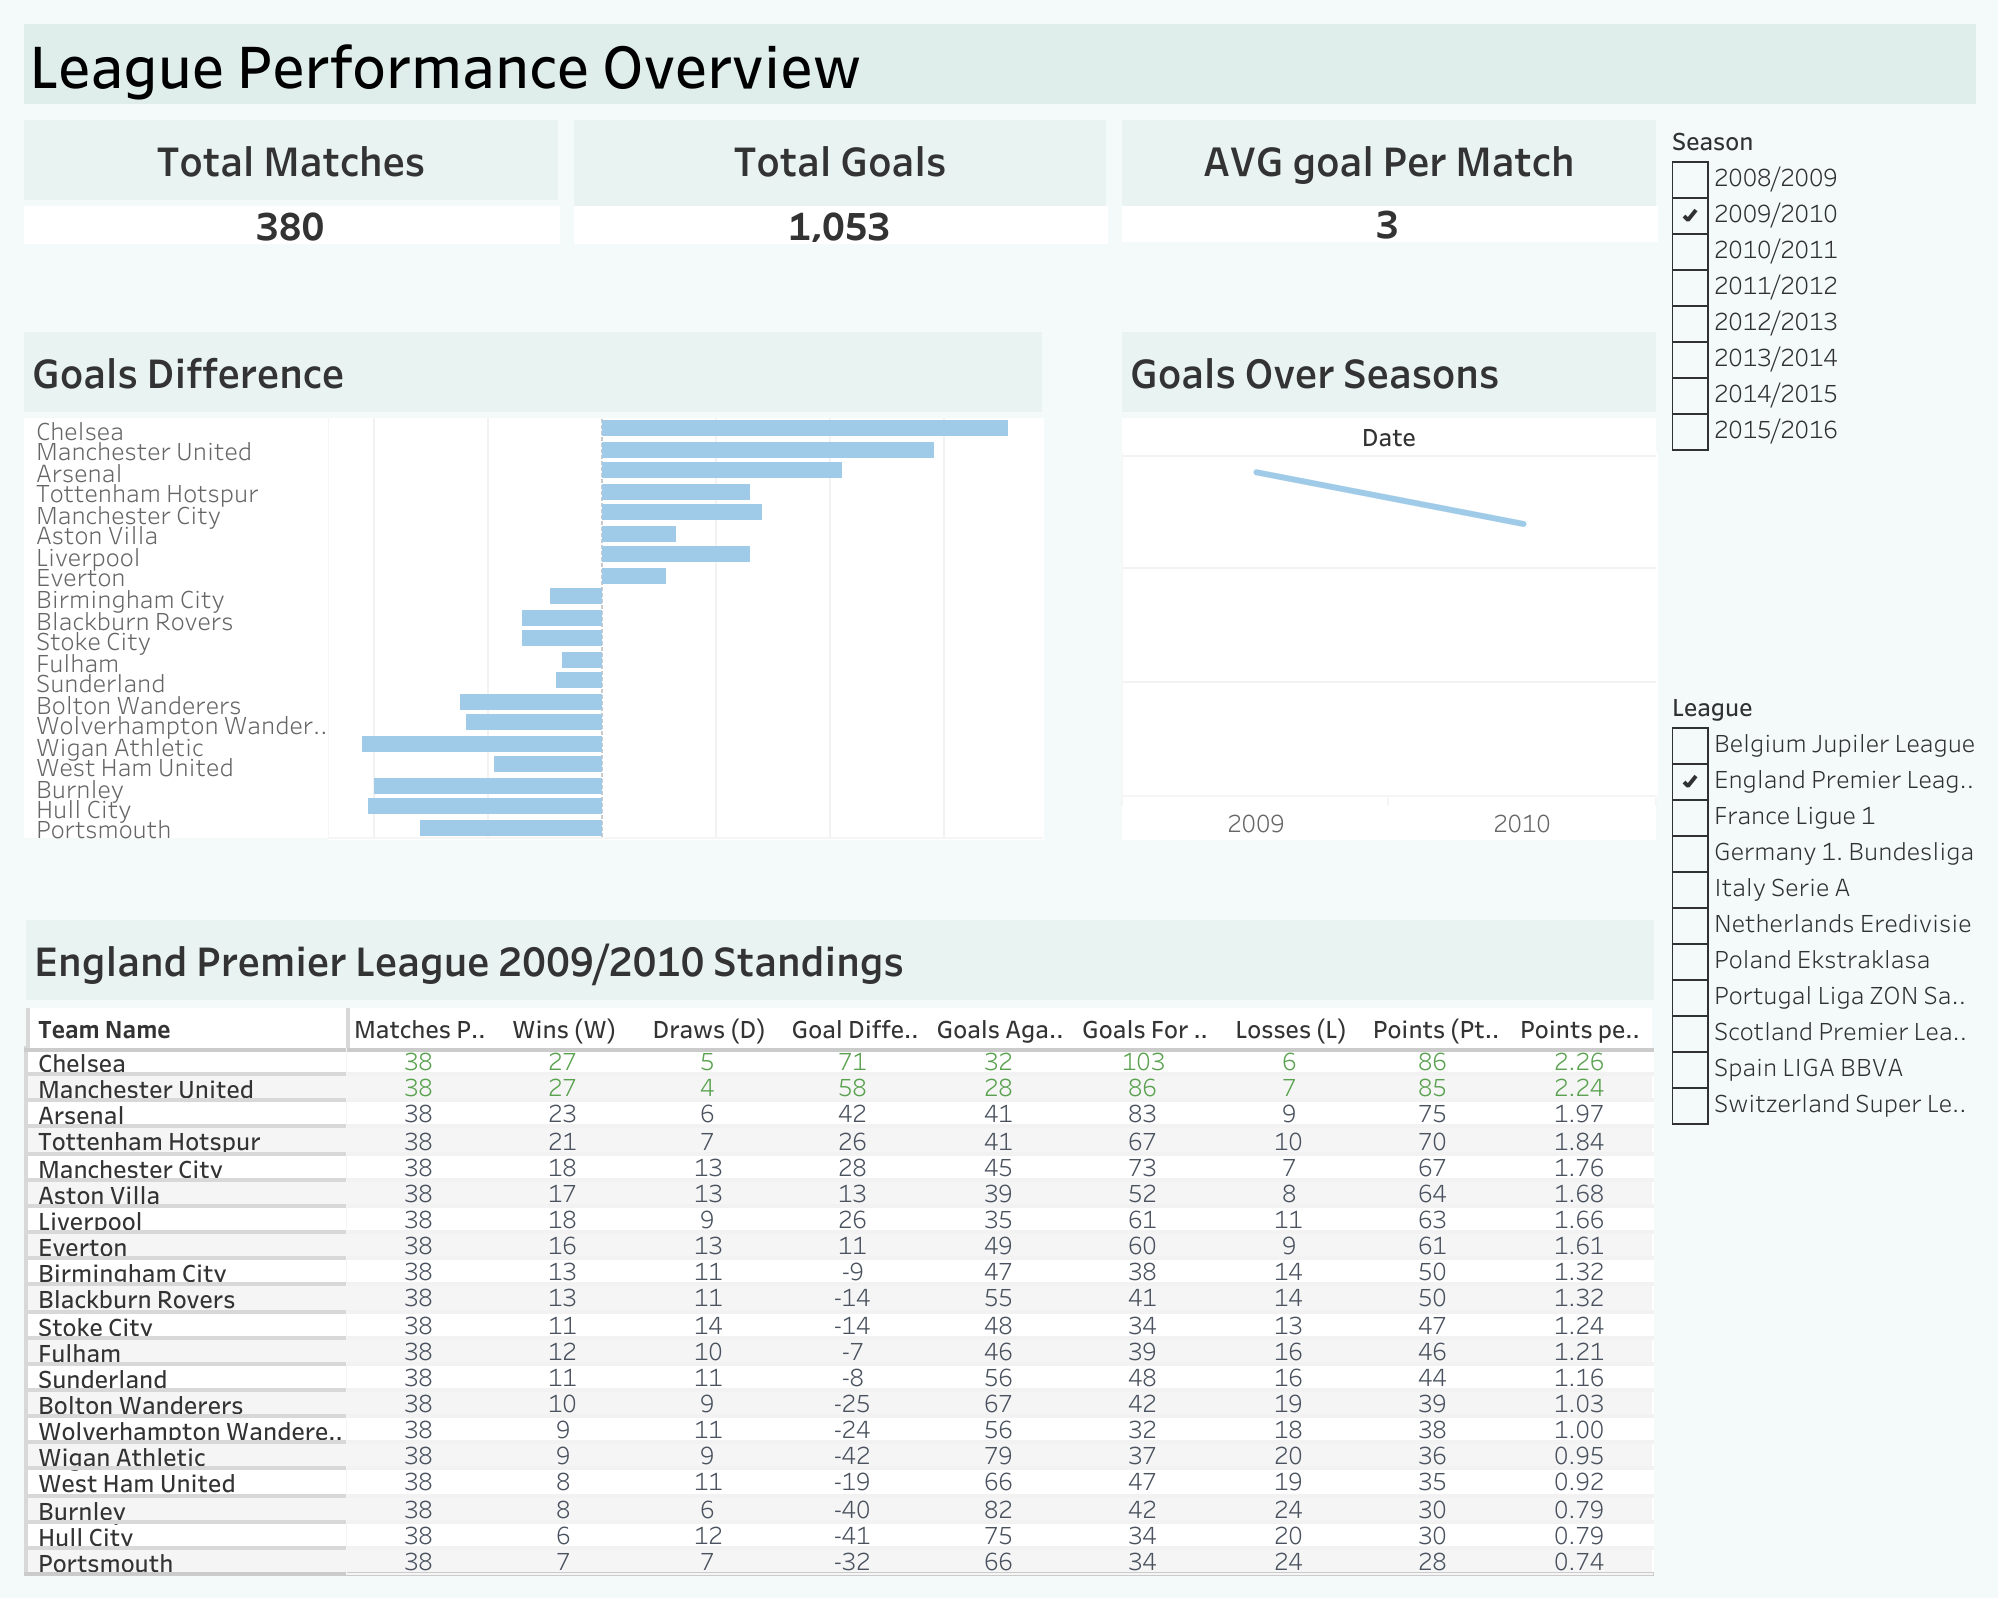

Layout of this report page (visuals, bound fields, positions):
{"tool":"tableau","page":{"name":"League Performance","canvas":[1000,800],"ordinal":0},"visuals":[{"type":"title","box":[8,8,984,48]},{"type":"worksheet","title":"Matchs","mark":"Automatic","box":[8,56,274.7,68.5]},{"type":"worksheet","title":"Total Goals","mark":"Automatic","box":[282.7,56,274.7,68.5]},{"type":"worksheet","title":"AVG goal Per Match","mark":"Automatic","box":[557.3,56,274.7,68.4]},{"type":"filter","title":"Standings","param":"[federated.0efvdq61338zgz1e06wcw0oaaglm].[none:season:nk]","box":[832,56,160,283]},{"type":"blank","box":[557.3,124.4,274.7,37.6]},{"type":"blank","box":[8,124.5,549.3,37.6]},{"type":"worksheet","title":"GD Bars","mark":"Bar","rows":["TeamName"],"cols":["Calculation_4468767146312998916"],"box":[8,162.1,517,261.9]},{"type":"blank","box":[525,162.1,32.3,261.9]},{"type":"worksheet","title":"Goals Over Seasons","mark":"Automatic","rows":["GoalsFor"],"cols":["date"],"box":[557.3,162.1,274.7,261.9]},{"type":"filter","title":"Standings","param":"[federated.0efvdq61338zgz1e06wcw0oaaglm].[none:League:nk]","box":[832,339,160,341]},{"type":"blank","box":[8,424,824,31.7]},{"type":"worksheet","title":"Standings","mark":"Automatic","rows":["TeamName"],"box":[8,455.7,824,336.3]}]}

Visuals, with their boxes in screenshot pixels (x1, y1, x2, y2), scaled from the page's 1000x800 canvas onto the 1998x1598 screenshot:
title: (16, 16, 1982, 112)
"Matchs" worksheet: (16, 112, 565, 249)
"Total Goals" worksheet: (565, 112, 1114, 249)
"AVG goal Per Match" worksheet: (1113, 112, 1662, 248)
"Standings" filter: (1662, 112, 1982, 677)
blank: (1113, 248, 1662, 324)
blank: (16, 249, 1113, 324)
"GD Bars" worksheet (Bar marks): (16, 324, 1049, 847)
blank: (1049, 324, 1113, 847)
"Goals Over Seasons" worksheet: (1113, 324, 1662, 847)
"Standings" filter: (1662, 677, 1982, 1358)
blank: (16, 847, 1662, 910)
"Standings" worksheet: (16, 910, 1662, 1582)
